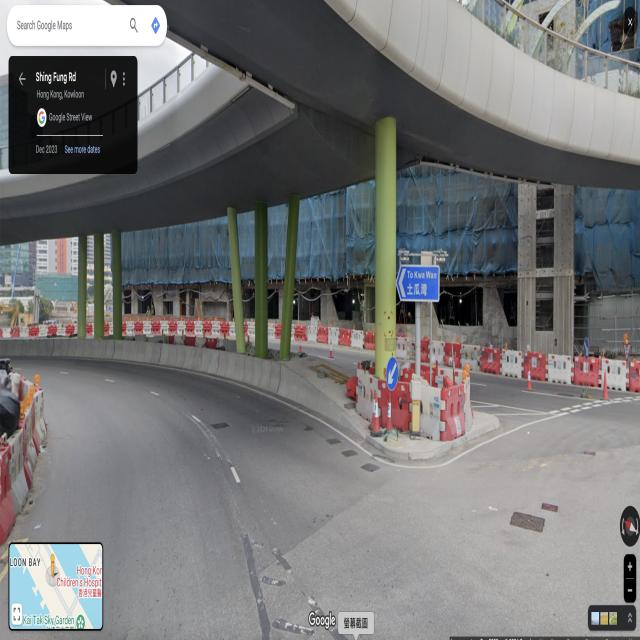Direction-Sign: (396, 265, 440, 302)
Order-Sign: (387, 356, 398, 391)
